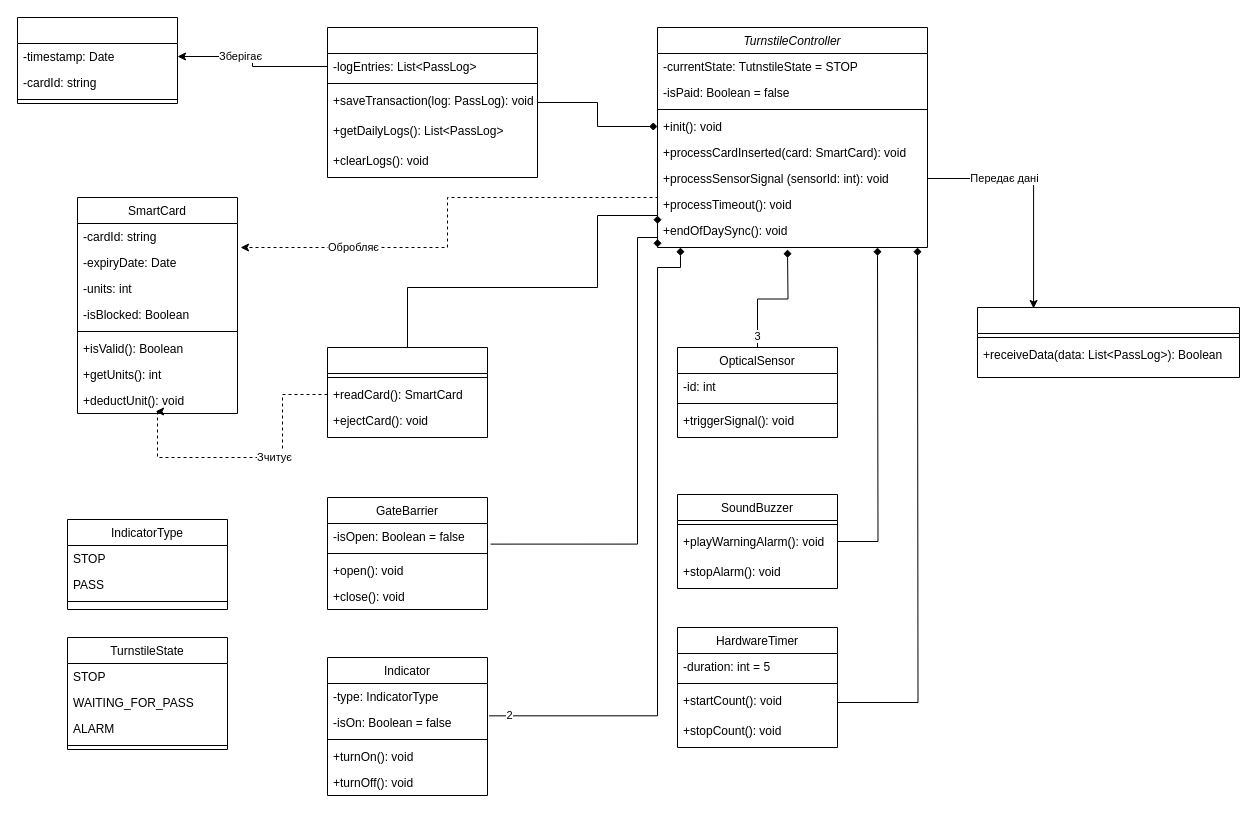
Image size: 1257x816. Some labels were removed from this diagram. Here are the shapes that lost their labels. From the top down, the box of each, then its label:
(16, 16, 178, 104): PassLog
(326, 26, 538, 178): MemoryStorage
(976, 306, 1240, 378): CentralAsuSystem
(326, 346, 488, 438): CardReader
